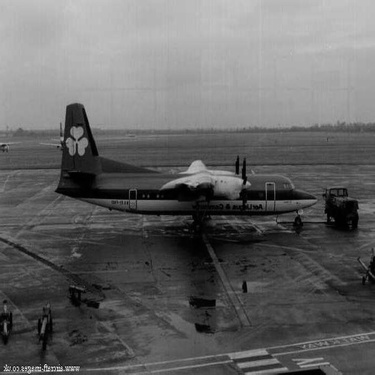airplane: (50, 96, 319, 231), (41, 116, 82, 155)
